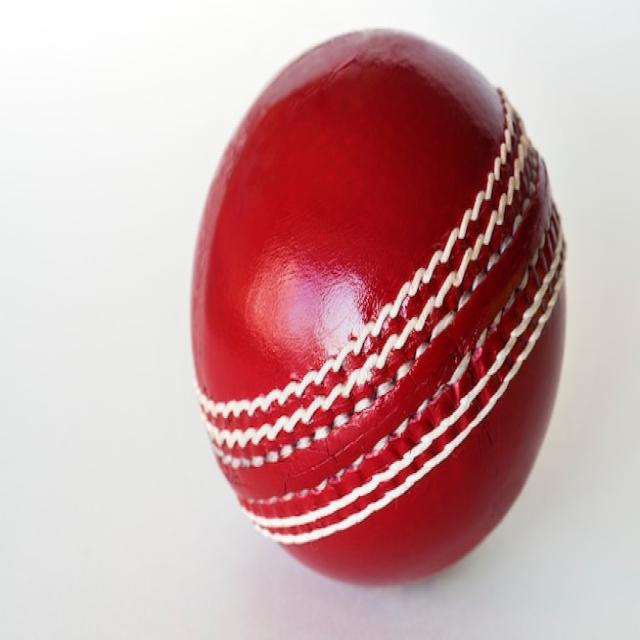ball: (182, 22, 574, 594)
